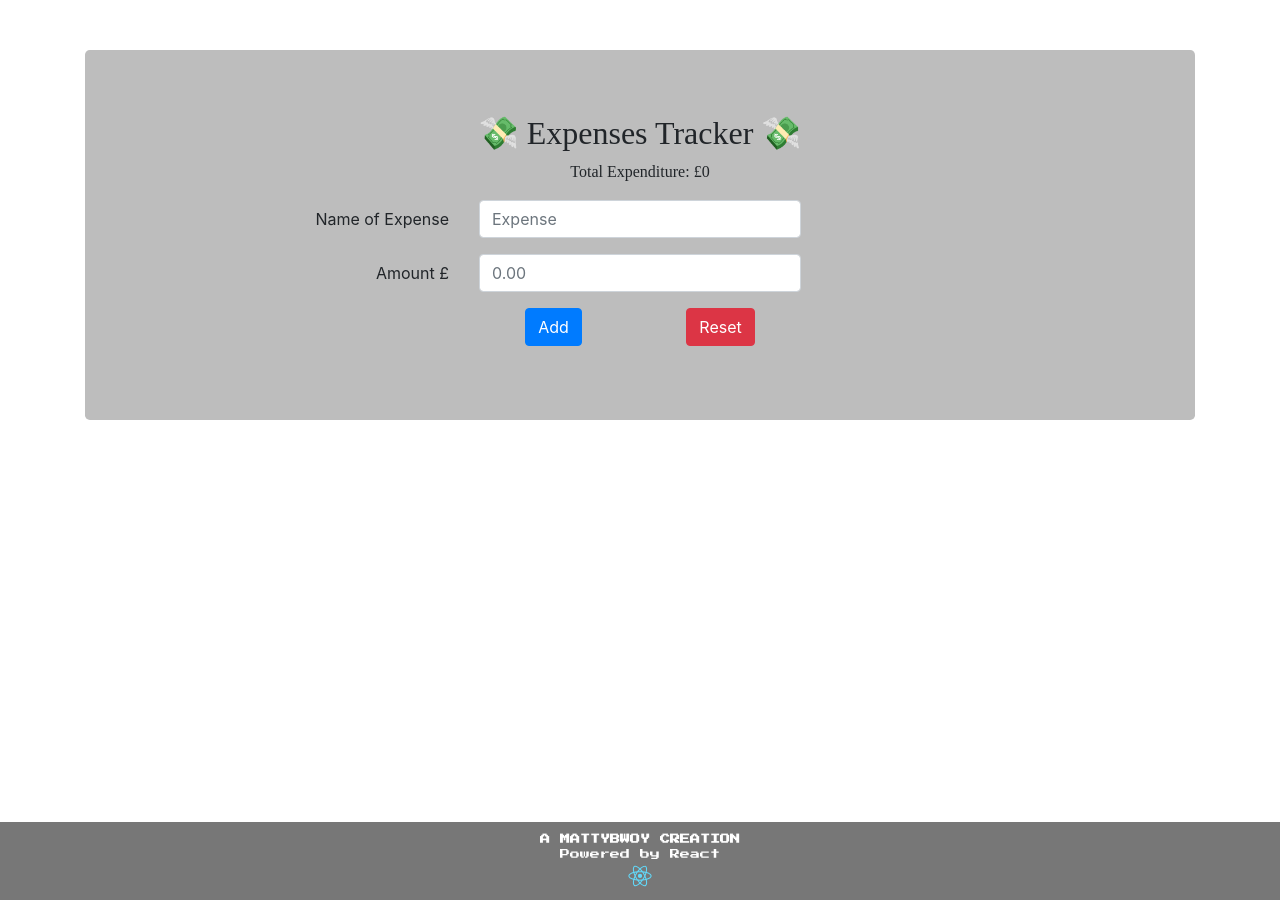
Scenario: Adds an expense
Type "Coffee" into the field. click: (640, 219)
box: [479, 200, 801, 238]
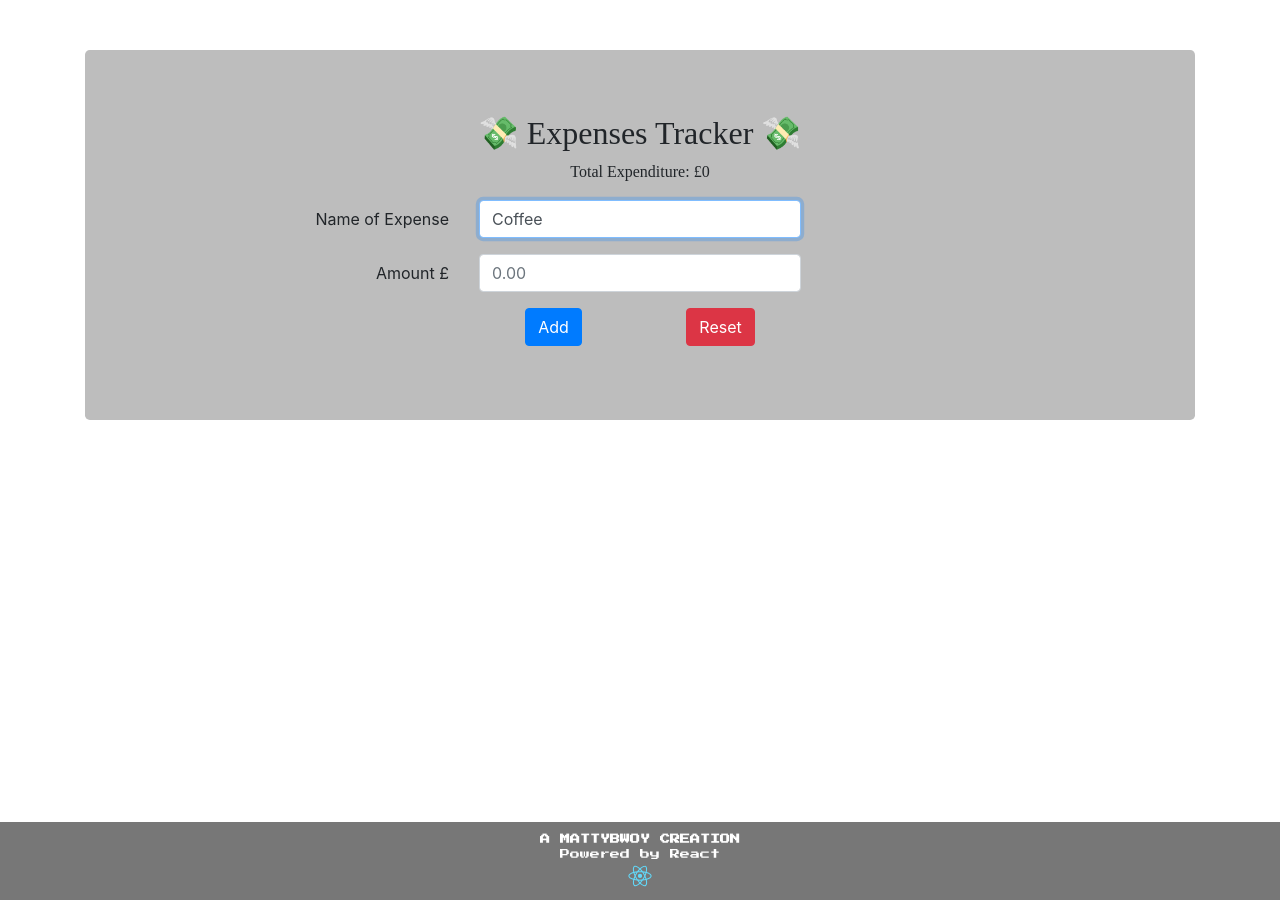
Type "2" into the number field. click: (640, 273)
box: [479, 254, 801, 292]
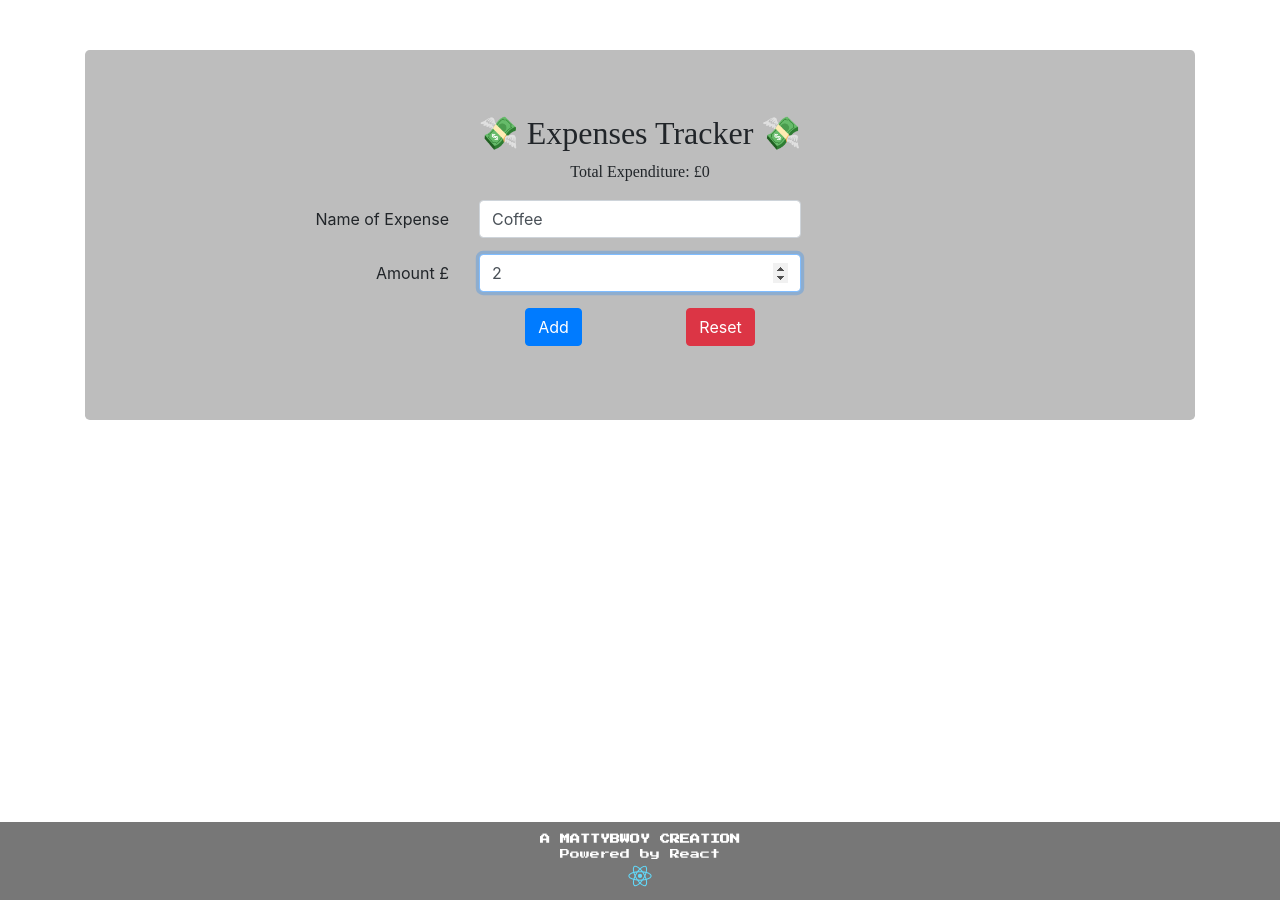
Click the button "Add". click: (554, 327)
box: [525, 308, 582, 346]
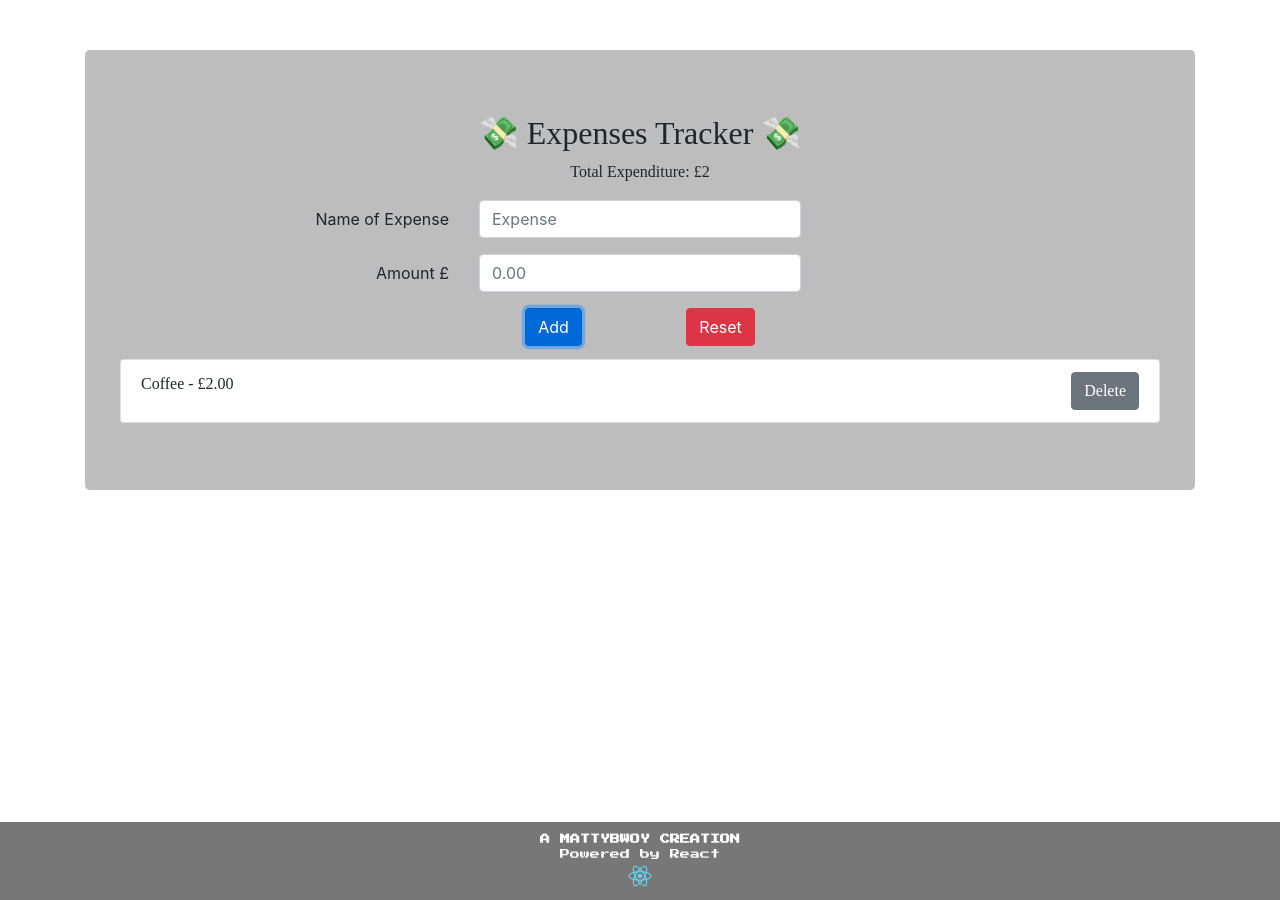
Now the list item "Coffee - £2.00" is shown, box [120, 359, 1160, 423]
